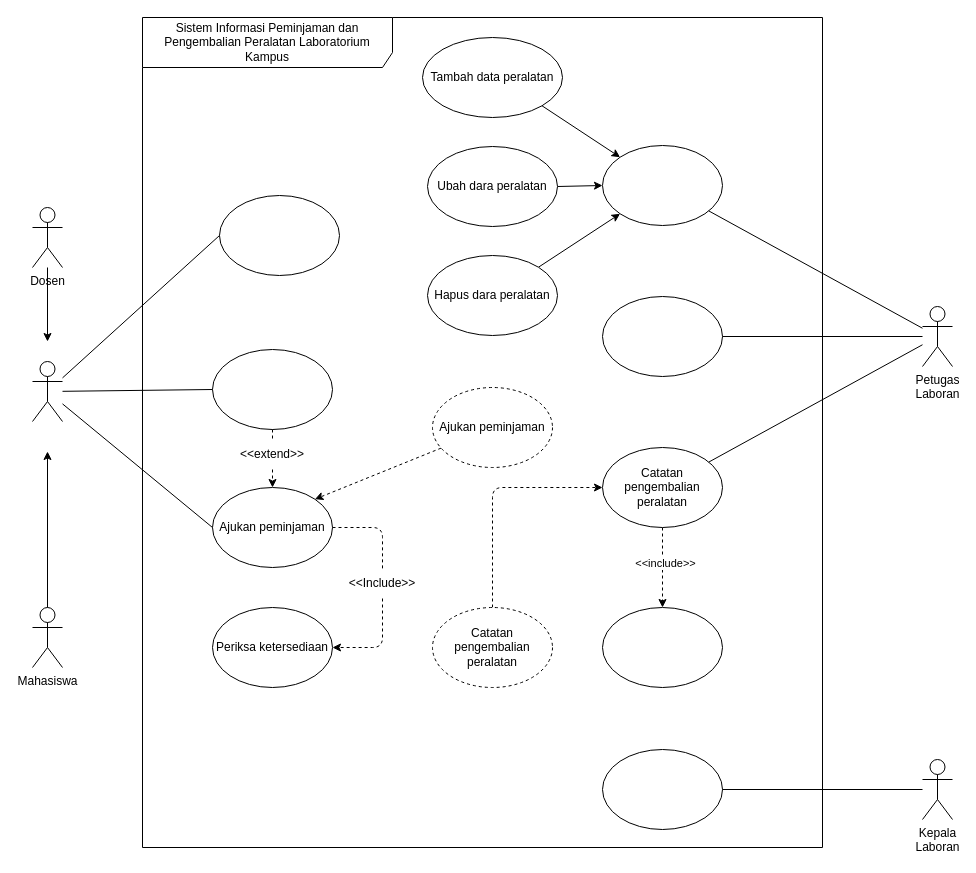
Image size: 976x873. Some labels were removed from this diagram. Here are the shapes that lost their labels. From the top down, the centre of each, then its label:
At (x=662, y=185): "Kelola data peralatan".
At (x=279, y=235): "Lihat ketersediaan peralatan".
At (x=662, y=336): "Proses keputusan peminjaman".
At (x=47, y=391): "Peminjam".
At (x=272, y=389): "Cetak bukti pengajuan".
At (x=662, y=647): "Periksa kondisi peralatan".
At (x=662, y=789): "Lihat laporan peminjaman".
